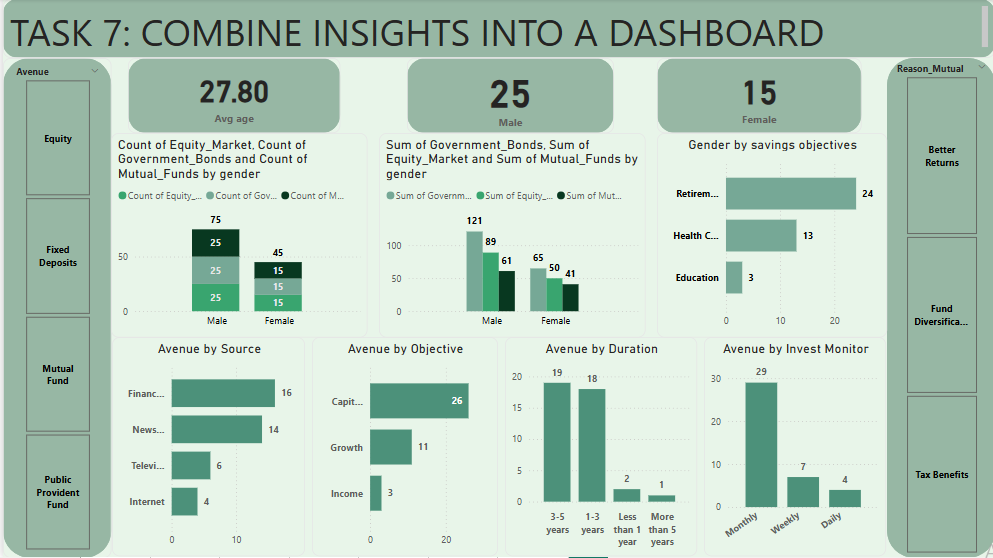

Layout of this report page (visuals, bound fields, positions):
{"tool":"powerbi","page":{"name":"Task7","canvas":[1280,720],"ordinal":6},"visuals":[{"type":"shape","box":[0,0,1280,75.6],"z":0},{"type":"textbox","box":[0,0,1280,75.6],"z":1000},{"type":"shape","box":[1140.2,75.6,139.8,645],"z":2000},{"type":"slicer","fields":{"Values":["Data_set 2.Reason_Mutual"]},"box":[1140.2,75.6,139.8,645],"z":3000},{"type":"shape","box":[0,75.6,139.8,645],"z":4000},{"type":"slicer","fields":{"Values":["Data_set 2.Avenue"]},"box":[0,75.6,139.8,645],"z":5000},{"type":"shape","box":[161.2,75.6,274,97],"z":6000},{"type":"shape","box":[520.8,75.6,266.8,97],"z":7000},{"type":"shape","box":[843.3,75.6,264,97],"z":8000},{"type":"card","fields":{"Values":["Data_set 2.Avg age"]},"box":[161.2,75.6,274,97],"z":9000},{"type":"card","fields":{"Values":["Data_set 2.Male"]},"box":[520.8,75.6,266.8,97],"z":10000},{"type":"card","fields":{"Values":["Data_set 2.Female"]},"box":[843.3,75.6,264,97],"z":11000},{"type":"clusteredColumnChart","fields":{"Category":["Data_set 2.gender"],"Y":["Sum(Data_set 2.Government_Bonds)","Sum(Data_set 2.Equity_Market)","Sum(Data_set 2.Mutual_Funds)"]},"box":[485.2,172.7,343.9,264],"z":12000},{"type":"columnChart","fields":{"Category":["Data_set 2.gender"],"Y":["CountNonNull(Data_set 2.Equity_Market)","CountNonNull(Data_set 2.Government_Bonds)","CountNonNull(Data_set 2.Mutual_Funds)"]},"box":[139.8,172.7,331.1,264],"z":13000},{"type":"clusteredColumnChart","title":" Avenue by Duration","fields":{"Category":["Data_set 2.Duration"],"Y":["CountNonNull(Data_set 2.Avenue)"]},"box":[647.2,436.5,248,283.5],"z":14000},{"type":"barChart","title":"Gender by   savings objectives","fields":{"Category":["Data_set 2.What are your savings objectives?"],"Y":["CountNonNull(Data_set 2.gender)"]},"box":[843.3,172.7,296.8,264],"z":15000},{"type":"clusteredColumnChart","title":"Avenue by Invest Monitor","fields":{"Category":["Data_set 2.Invest_Monitor"],"Y":["CountNonNull(Data_set 2.Avenue)"]},"box":[904.3,436.5,235.3,283.5],"z":16000},{"type":"barChart","title":"Avenue by Source","fields":{"Category":["Data_set 2.Source"],"Y":["CountNonNull(Data_set 2.Avenue)"]},"box":[140.3,436.5,249.4,283.5],"z":17000},{"type":"barChart","title":"Avenue by Objective","fields":{"Category":["Data_set 2.Objective"],"Y":["CountNonNull(Data_set 2.Avenue)"]},"box":[398.7,436.5,239.5,283.5],"z":18000}]}

Visuals, with their boxes in screenshot pixels (x1, y1, x2, y2), scaled from the page's 1280x720 canvas onto the 993x558 screenshot:
shape: left=0, top=0, right=992, bottom=59
textbox: left=0, top=0, right=992, bottom=59
shape: left=885, top=59, right=992, bottom=557
slicer - Data_set 2.Reason_Mutual: left=885, top=59, right=992, bottom=557
shape: left=0, top=59, right=108, bottom=557
slicer - Data_set 2.Avenue: left=0, top=59, right=108, bottom=557
shape: left=125, top=59, right=338, bottom=134
shape: left=404, top=59, right=611, bottom=134
shape: left=654, top=59, right=859, bottom=134
card - Data_set 2.Avg age: left=125, top=59, right=338, bottom=134
card - Data_set 2.Male: left=404, top=59, right=611, bottom=134
card - Data_set 2.Female: left=654, top=59, right=859, bottom=134
clusteredColumnChart - Data_set 2.gender x Sum(Data_set 2.Government_Bonds): left=376, top=134, right=643, bottom=338
columnChart - Data_set 2.gender x CountNonNull(Data_set 2.Equity_Market): left=108, top=134, right=365, bottom=338
" Avenue by Duration" clusteredColumnChart: left=502, top=338, right=694, bottom=557
"Gender by   savings objectives" barChart: left=654, top=134, right=884, bottom=338
"Avenue by Invest Monitor" clusteredColumnChart: left=702, top=338, right=884, bottom=557
"Avenue by Source" barChart: left=109, top=338, right=302, bottom=557
"Avenue by Objective" barChart: left=309, top=338, right=495, bottom=557
